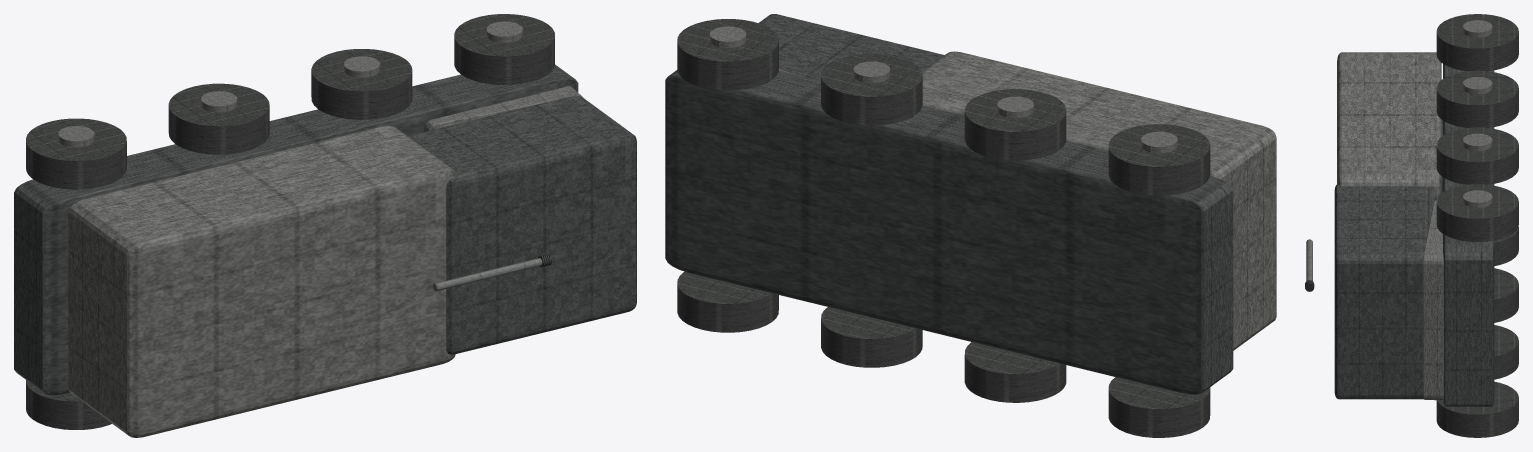
File: c-u19-armored-transport-lod0.glb
3 views of the same model, side by side, from view 1: azimuth 30°, elevation 25°; view 2: azimuth 150°, elevation 25°; view 3: azimuth 270°, elevation 25° (orthographic). The views are drawn at different scales.
Parts seen in each view (by area): view 1: transport_body, transport_cabin, chassis_lower, chassis_wheel_1_1, chassis_wheel_1_2, chassis_wheel_1_0, chassis_wheel_1_3, chassis_wheel_-1_0, chassis_nose, transport_rcws_barrel_0, chassis_hub_1_0, chassis_hub_1_3 (+2 smaller); view 2: chassis_lower, transport_body, chassis_wheel_1_0, chassis_wheel_1_1, chassis_wheel_1_2, chassis_wheel_1_3, transport_cabin, chassis_wheel_-1_0, chassis_wheel_-1_1, chassis_wheel_-1_3, chassis_wheel_-1_2, chassis_hub_1_0 (+3 smaller); view 3: transport_cabin, transport_body, chassis_lower, chassis_wheel_1_3, chassis_wheel_1_2, chassis_wheel_1_0, chassis_wheel_1_1, chassis_nose, chassis_wheel_-1_3, chassis_wheel_-1_2, chassis_wheel_-1_1, chassis_wheel_-1_0 (+5 smaller).
Boxes of the visible parts, left/top/right/bottom form: transport_body: left=68, top=125, right=456, bottom=437; transport_cabin: left=407, top=95, right=636, bottom=354; chassis_lower: left=14, top=64, right=578, bottom=395; chassis_wheel_1_1: left=168, top=83, right=269, bottom=154; chassis_wheel_1_2: left=311, top=49, right=412, bottom=119; chassis_wheel_1_0: left=26, top=118, right=126, bottom=189; chassis_wheel_1_3: left=454, top=14, right=554, bottom=84; chassis_wheel_-1_0: left=26, top=380, right=111, bottom=429; chassis_nose: left=424, top=86, right=582, bottom=131; transport_rcws_barrel_0: left=433, top=258, right=542, bottom=291; chassis_hub_1_0: left=58, top=126, right=94, bottom=147; chassis_hub_1_3: left=486, top=21, right=522, bottom=42; chassis_lower: left=665, top=70, right=1233, bottom=394; transport_body: left=922, top=51, right=1276, bottom=350; chassis_wheel_1_0: left=1108, top=124, right=1210, bottom=195; chassis_wheel_1_1: left=964, top=89, right=1066, bottom=160; chassis_wheel_1_2: left=821, top=54, right=922, bottom=125; chassis_wheel_1_3: left=677, top=19, right=778, bottom=90; transport_cabin: left=758, top=14, right=944, bottom=80; chassis_wheel_-1_0: left=1108, top=377, right=1210, bottom=437; chassis_wheel_-1_1: left=964, top=342, right=1066, bottom=402; chassis_wheel_-1_3: left=677, top=271, right=778, bottom=332; chassis_wheel_-1_2: left=821, top=307, right=922, bottom=367; chassis_hub_1_0: left=1141, top=131, right=1177, bottom=153; transport_cabin: left=1334, top=184, right=1429, bottom=399; transport_body: left=1337, top=52, right=1441, bottom=199; chassis_lower: left=1443, top=64, right=1494, bottom=406; chassis_wheel_1_3: left=1436, top=184, right=1518, bottom=241; chassis_wheel_1_2: left=1436, top=127, right=1518, bottom=184; chassis_wheel_1_0: left=1436, top=14, right=1518, bottom=71; chassis_wheel_1_1: left=1436, top=70, right=1518, bottom=127; chassis_nose: left=1423, top=200, right=1443, bottom=400; chassis_wheel_-1_3: left=1436, top=381, right=1518, bottom=437; chassis_wheel_-1_2: left=1494, top=325, right=1518, bottom=379; chassis_wheel_-1_1: left=1494, top=268, right=1518, bottom=322; chassis_wheel_-1_0: left=1494, top=227, right=1518, bottom=266.
Size of what is drawn, in the model's own units: 6.16 by 3.09 by 2.62.
Materials: 7 (7 with a texture image).
